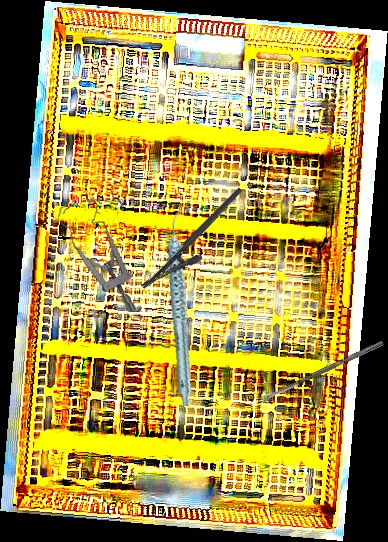Handpiece: (140, 208, 225, 407)
Needle Holder: (140, 186, 257, 304)
Speculum: (56, 195, 137, 319)
Surgical Spoon: (259, 339, 384, 403)
